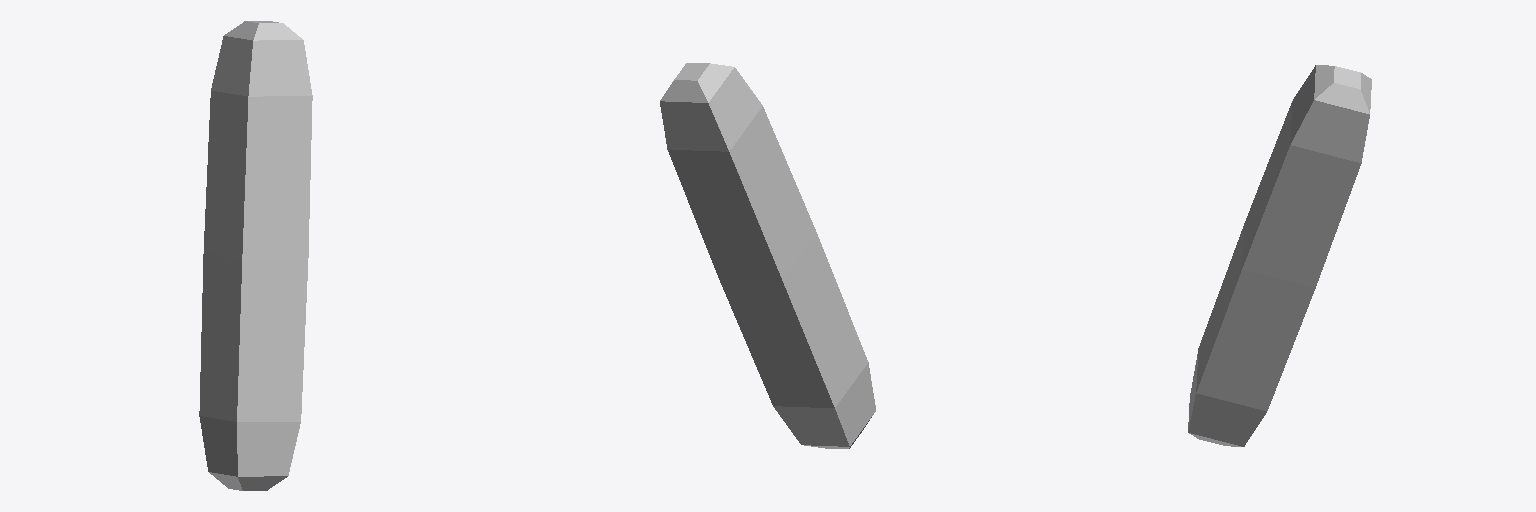
File: right_hand_cp_1.obj
3 renders of one model, left to right at view 1: azimuth 30°, elevation 25°; view 2: azimuth 150°, elevation 25°; view 3: azimuth 270°, elevation 25°, orthographic.
Visible parts, largest first — view 1: ../rami/model/right_hand_cp_1; view 2: ../rami/model/right_hand_cp_1; view 3: ../rami/model/right_hand_cp_1.
Part boxes in pixels (x1,y1,x2,y2): ../rami/model/right_hand_cp_1: (199, 21, 312, 490); ../rami/model/right_hand_cp_1: (660, 63, 875, 448); ../rami/model/right_hand_cp_1: (1188, 65, 1371, 446).
Bounding box in the file's own units: 0.0002 × 0.0005 × 0.0002.